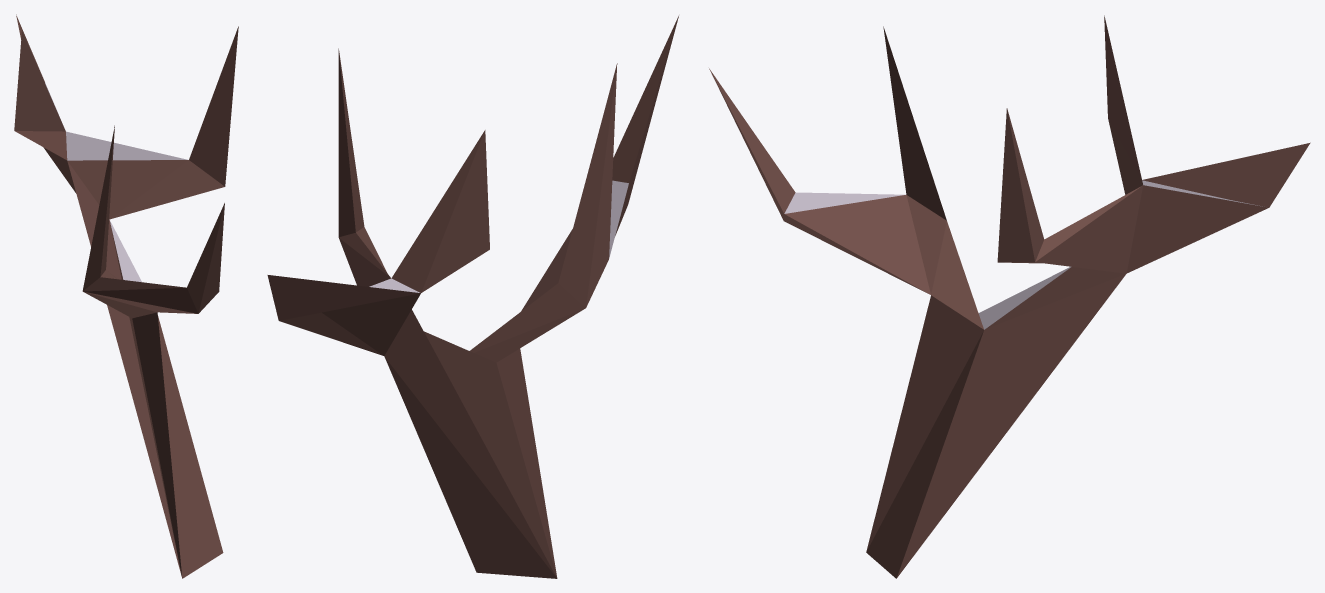
The model's file is Willow_Dead_Snow_4.lod3.glb.
The picture shows the model from 3 angles, left to right: view 1: azimuth 30°, elevation 25°; view 2: azimuth 150°, elevation 25°; view 3: azimuth 270°, elevation 25°; orthographic projection. The views are drawn at different scales.
Parts seen in each view (by area): view 1: Willow_Dead_Snow_4; view 2: Willow_Dead_Snow_4; view 3: Willow_Dead_Snow_4.
Boxes of the visible parts, bbox=[...] form: Willow_Dead_Snow_4: bbox=[14, 14, 238, 578]; Willow_Dead_Snow_4: bbox=[267, 16, 678, 578]; Willow_Dead_Snow_4: bbox=[709, 15, 1310, 578].
Bounding box in the file's own units: 0.9454 × 2.34 × 2.49.
